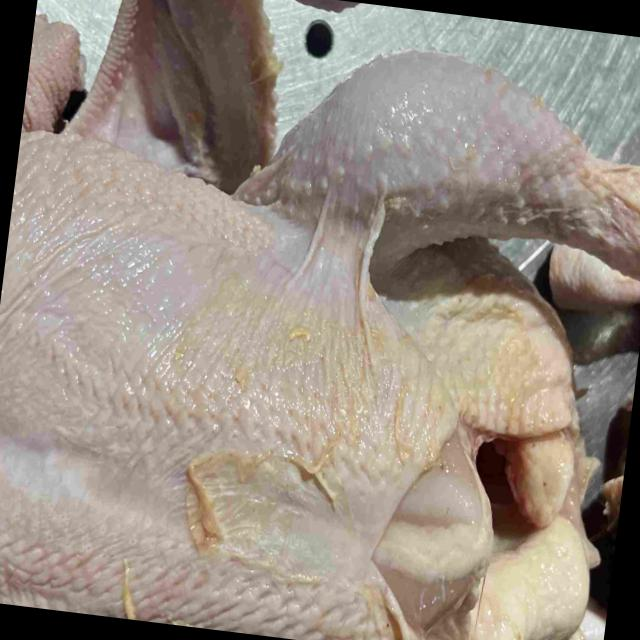breast: (0, 129, 497, 640)
leg: (252, 50, 640, 278)
wing: (65, 0, 272, 197)
